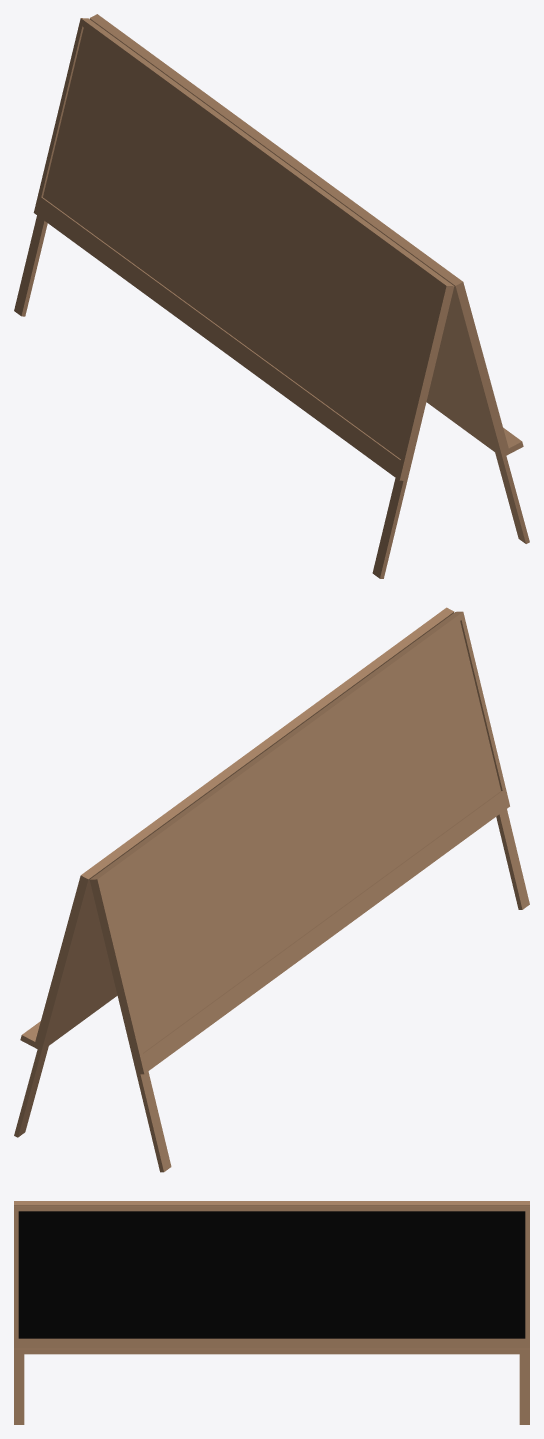
File: Blackboard.fbx
The picture shows the model from 3 angles, top to bottom: view 1: azimuth 30°, elevation 25°; view 2: azimuth 150°, elevation 25°; view 3: azimuth 270°, elevation 25°; orthographic projection. The views are drawn at different scales.
Parts seen in each view (by area): view 1: Cube.008; view 2: Cube.008; view 3: Cube.008.
Part boxes in pixels (left/top/right/bottom): Cube.008: left=14, top=14, right=529, bottom=578; Cube.008: left=14, top=607, right=529, bottom=1172; Cube.008: left=14, top=1201, right=529, bottom=1424.
Size of the model in its own units: 269 by 476 by 1137.
